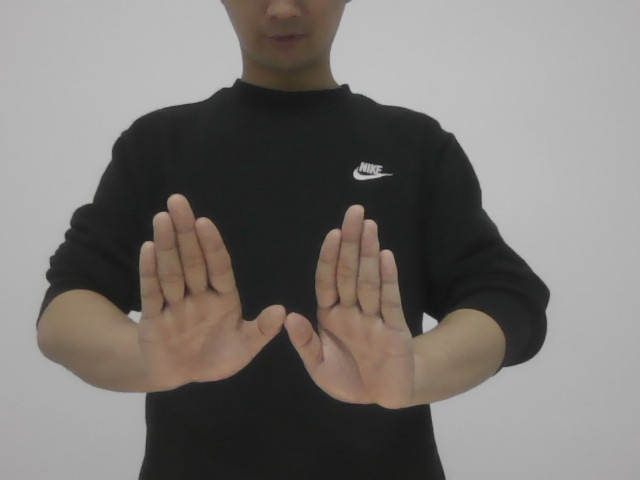door: (136, 184, 427, 422)
